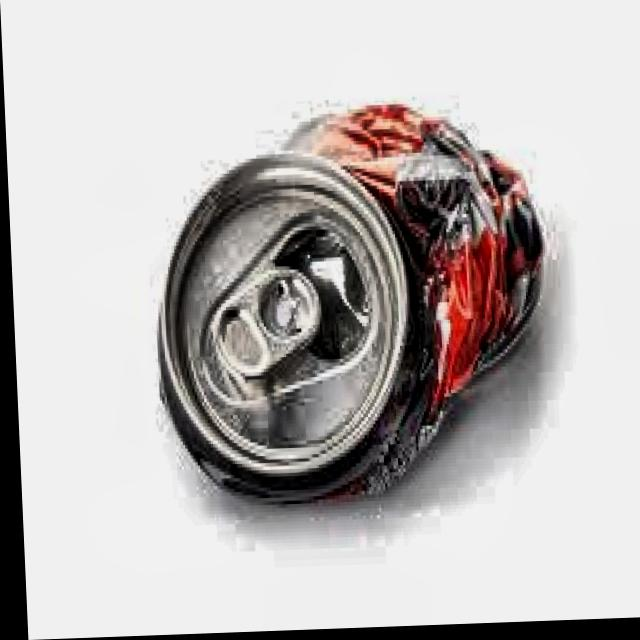can: (136, 90, 556, 540)
